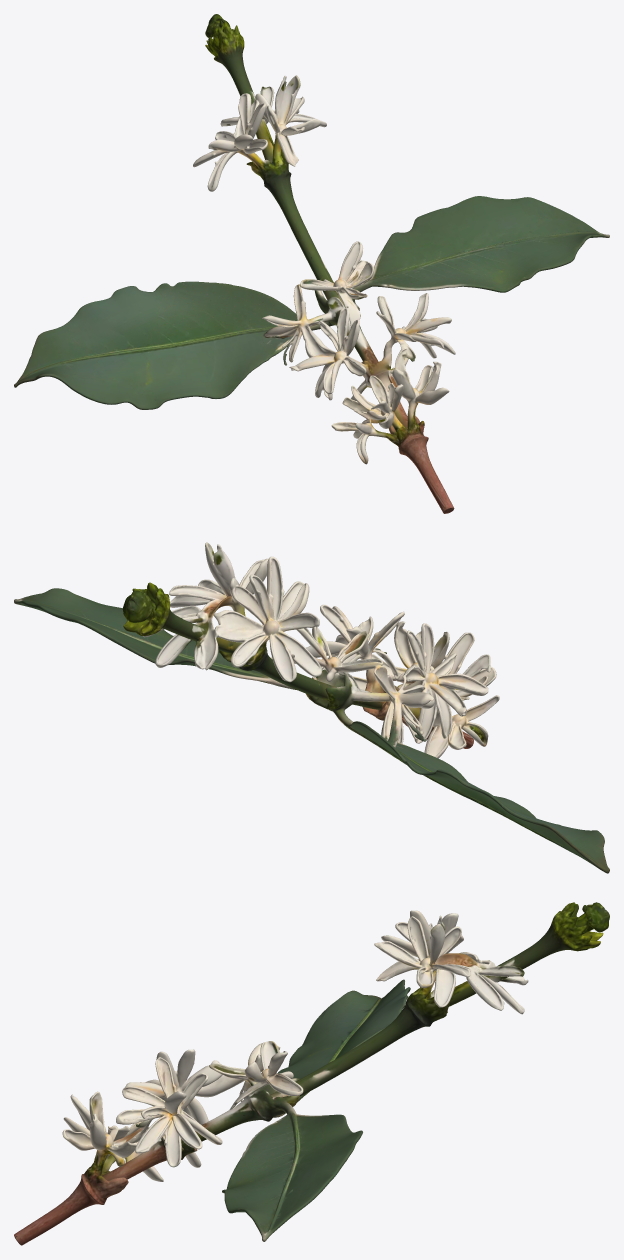
The model's file is flower.glb.
3 views of the same model, one above another, from view 1: azimuth 30°, elevation 25°; view 2: azimuth 150°, elevation 25°; view 3: azimuth 270°, elevation 25° (orthographic). The views are drawn at different scales.
Visible parts, largest first — view 1: node_0; view 2: node_0; view 3: node_0.
Part boxes in pixels (<box>): node_0: <box>14,14,609,513</box>; node_0: <box>14,542,609,873</box>; node_0: <box>14,902,609,1245</box>.
Size of the model in its own units: 1.14 by 0.6205 by 0.948.
Materials: 1 (1 with a texture image).
